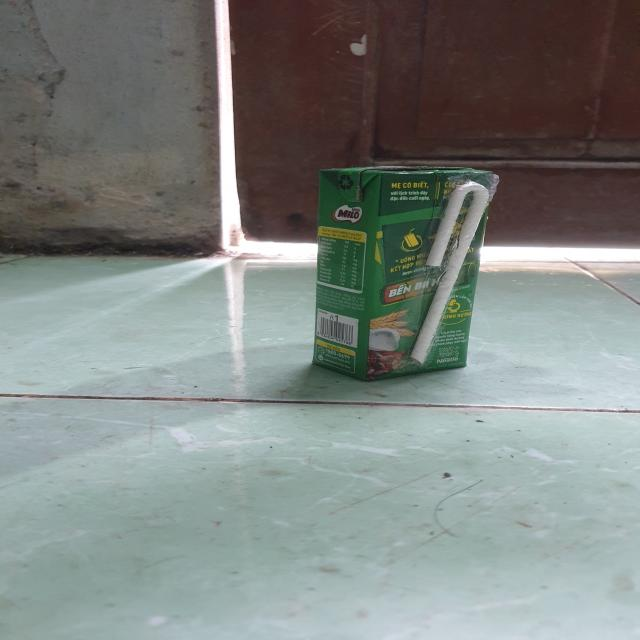Milo: (312, 162, 498, 384)
